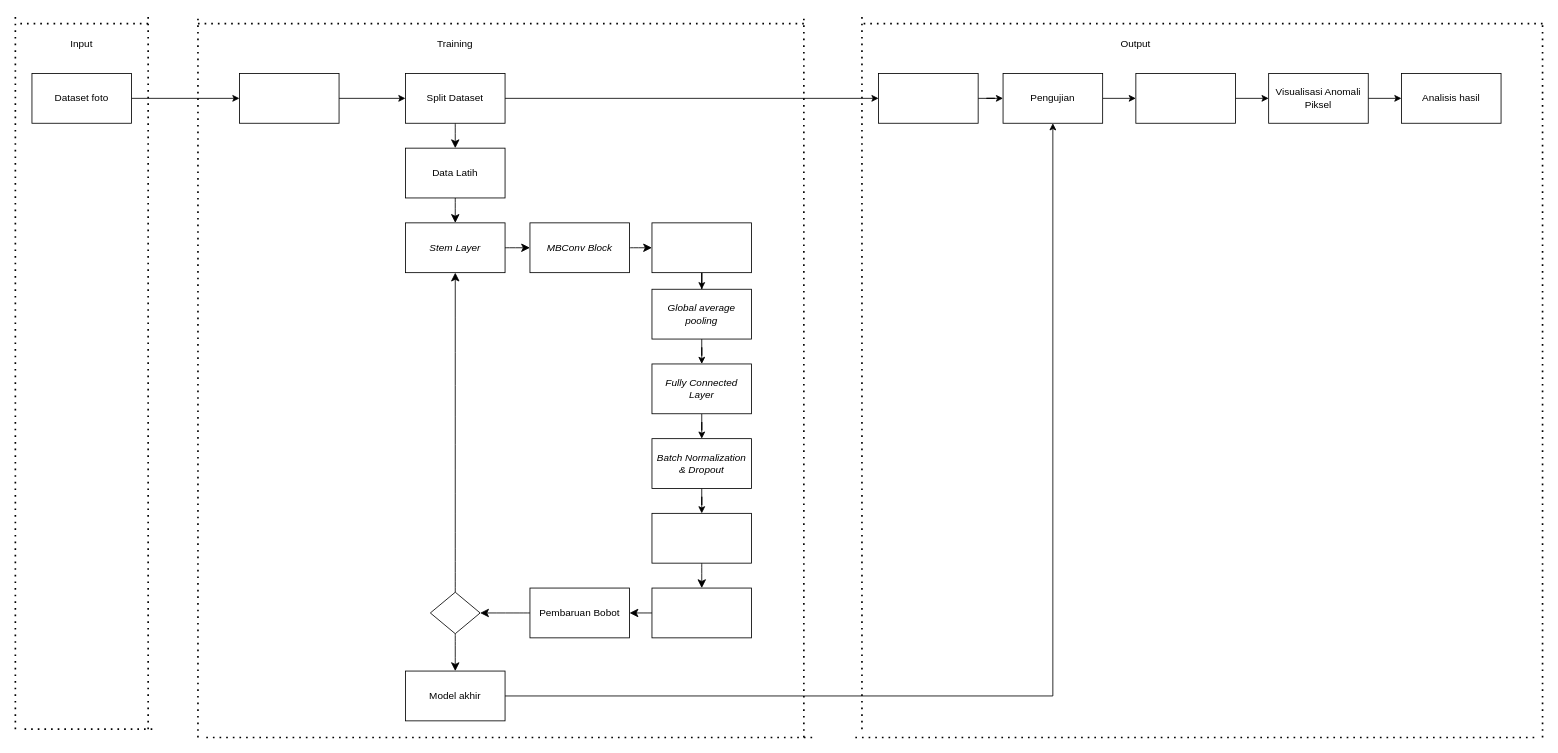
Image size: 1558x753. Some labels were removed from this diagram. Here are the shapes that lost their labels. From the top down, the centre of each, then its label:
the point at 289,98: Prapemrosesan data
the point at 928,98: Data uji
the point at 1185,98: Evaluasi Model
the point at 701,247: Squeeze and Excitation
the point at 701,538: Softmax Classifier
the point at 701,612: Penghitungan Loss
